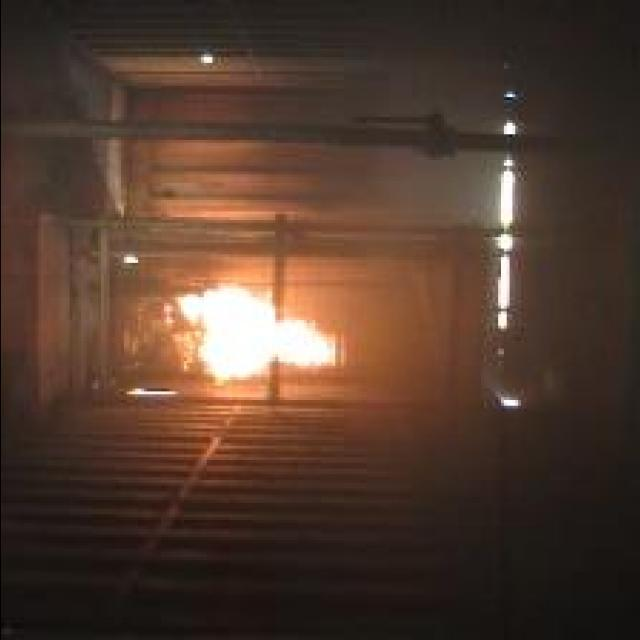Fire: (168, 288, 348, 382)
